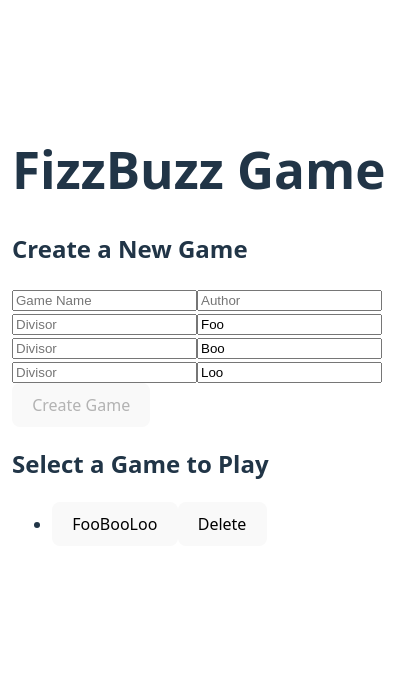
it: App Component › starts a game and displays the number
Click the button "FooBooLoo" at (115, 524), box [52, 502, 178, 546]
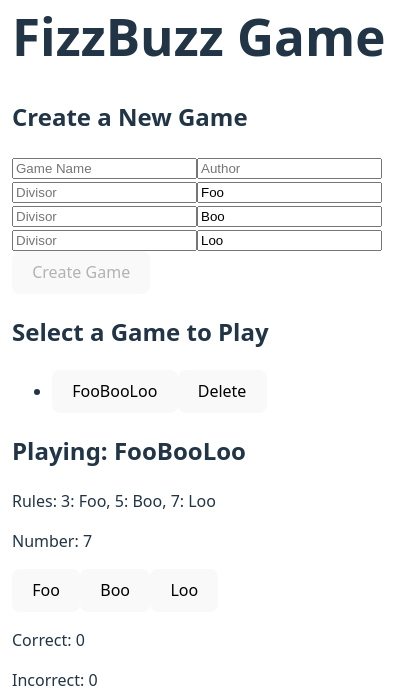
Check: the text "Number: 7" is shown, box [12, 530, 92, 552]
